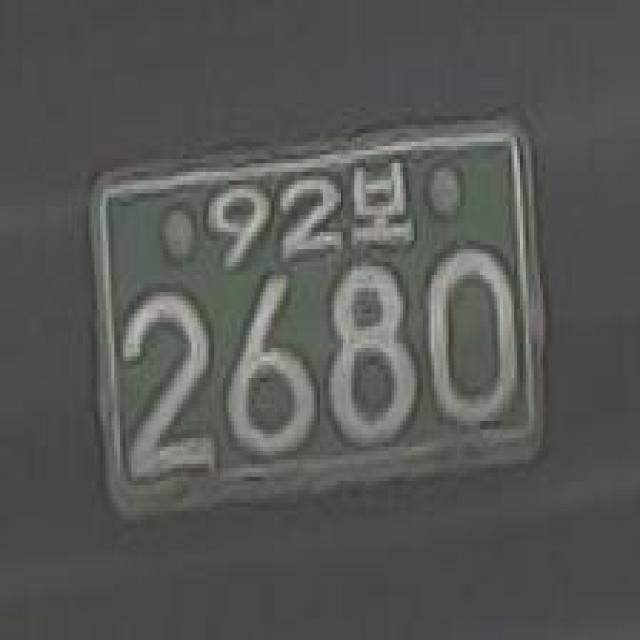illegal_plate: (71, 112, 560, 539)
